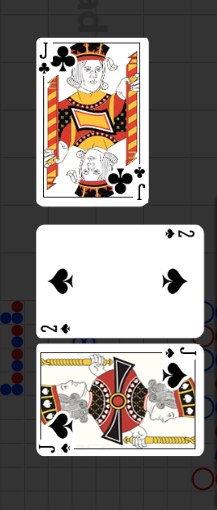2S: (40, 322, 73, 335)
JC: (38, 41, 52, 76)
JS: (38, 411, 85, 455), (159, 344, 205, 388)
